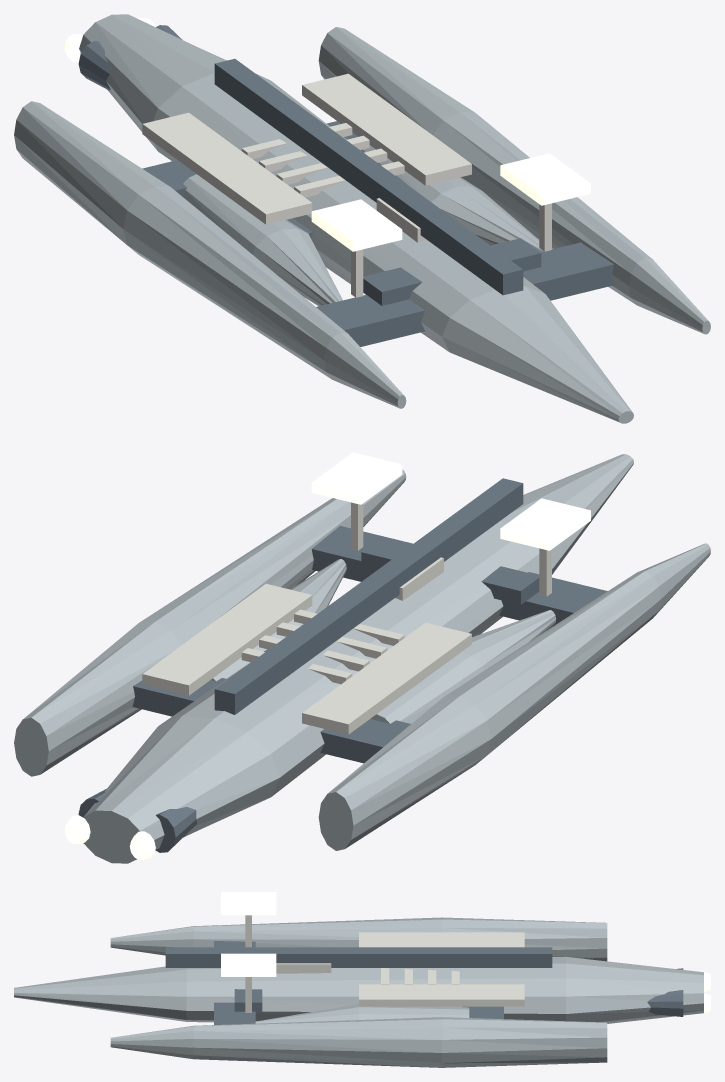
3 renders of one model, top to bottom at view 1: azimuth 30°, elevation 25°; view 2: azimuth 150°, elevation 25°; view 3: azimuth 270°, elevation 25°, orthographic. The views are drawn at different scales.
Size of the model in its own units: 4.22 by 1.48 by 10.3.
